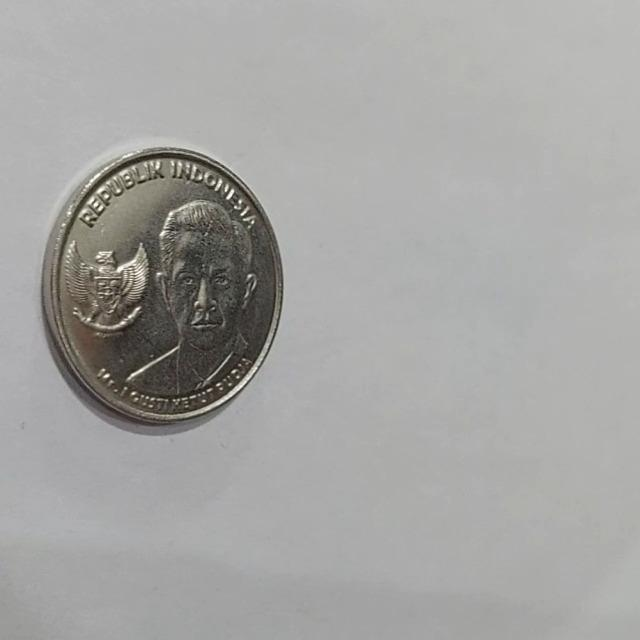Rp100: (41, 144, 284, 427)
